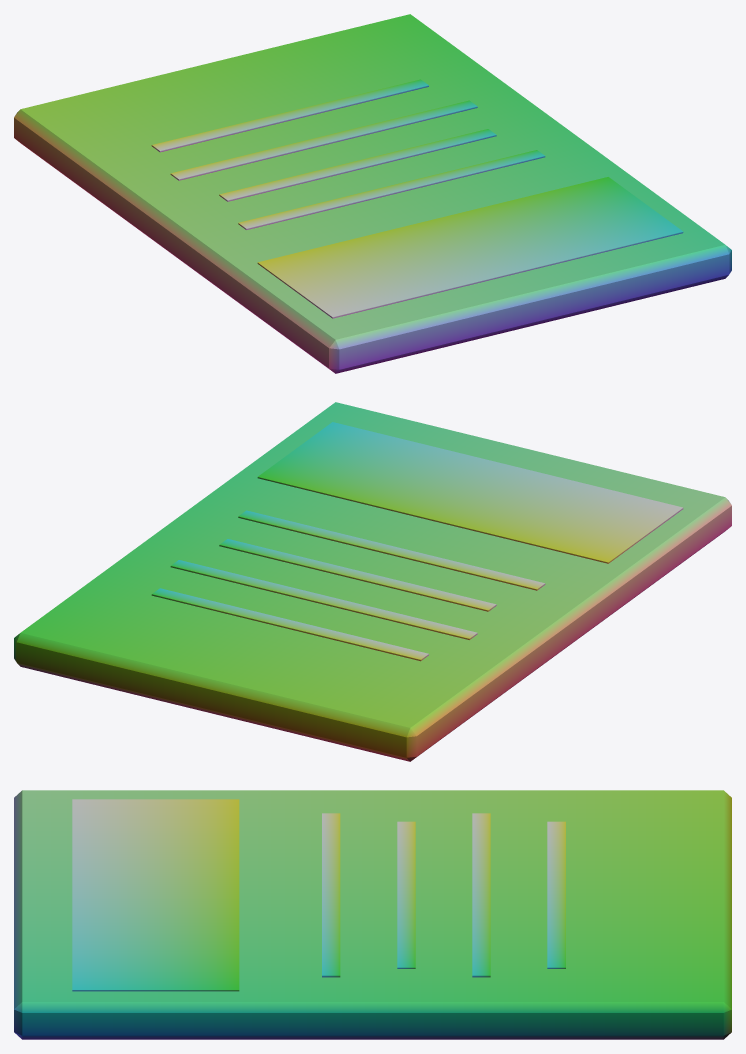
The model's file is rule_booklet.fbx.
3 renders of one model, top to bottom at view 1: azimuth 30°, elevation 25°; view 2: azimuth 150°, elevation 25°; view 3: azimuth 270°, elevation 25°, orthographic. The views are drawn at different scales.
Visible parts, largest first — view 1: rule_booklet; view 2: rule_booklet; view 3: rule_booklet.
Part boxes in pixels (<box>): rule_booklet: <box>14,14,731,373</box>; rule_booklet: <box>14,402,731,761</box>; rule_booklet: <box>14,790,731,1039</box>.
Size of the model in its own units: 0.62 by 0.052 by 0.86.
